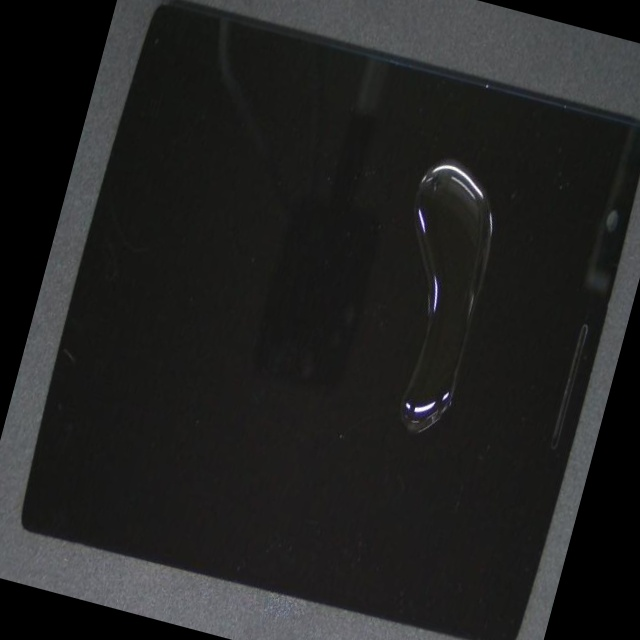oil: (148, 161, 640, 640)
